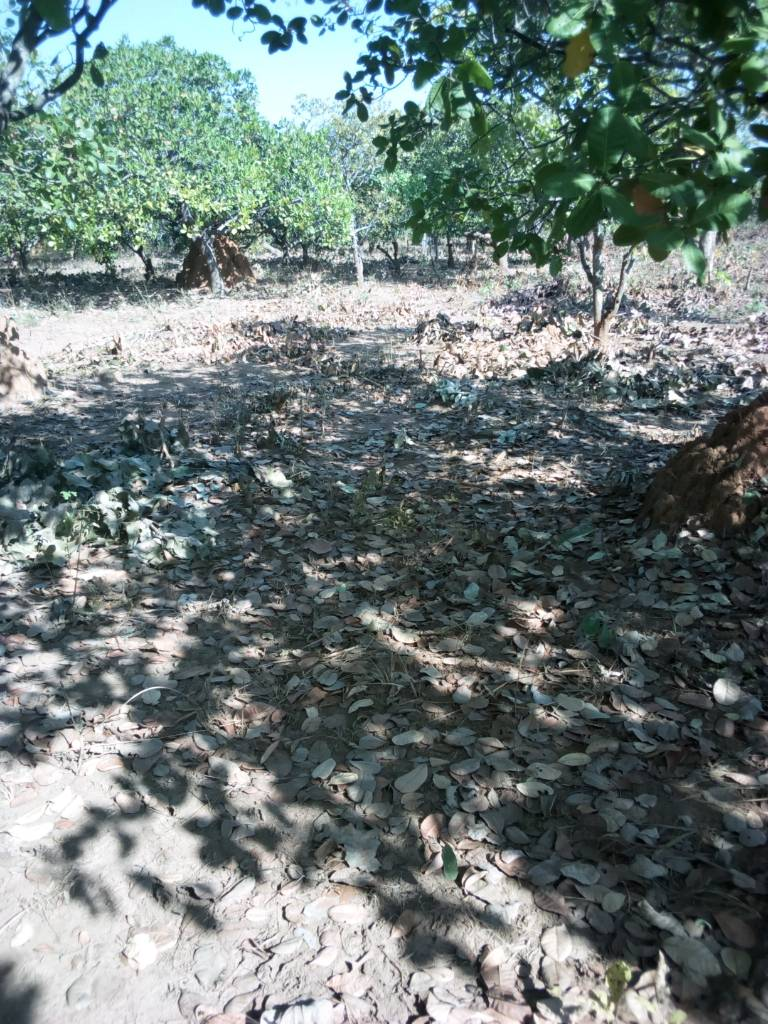Termites: (668, 403, 768, 505)
